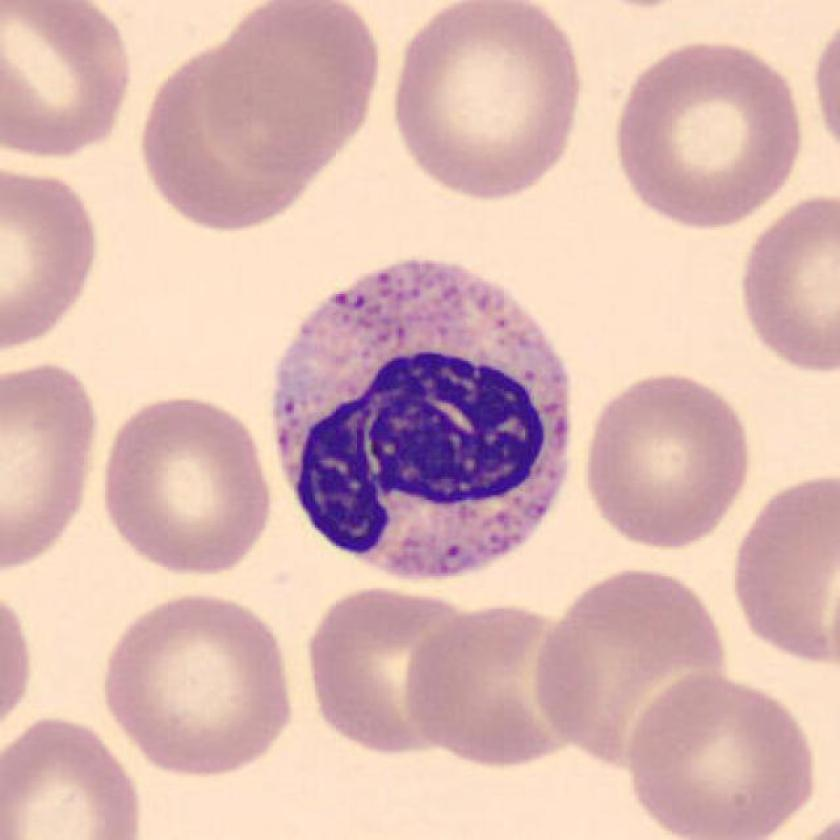neutrophil: (277, 264, 571, 583)
